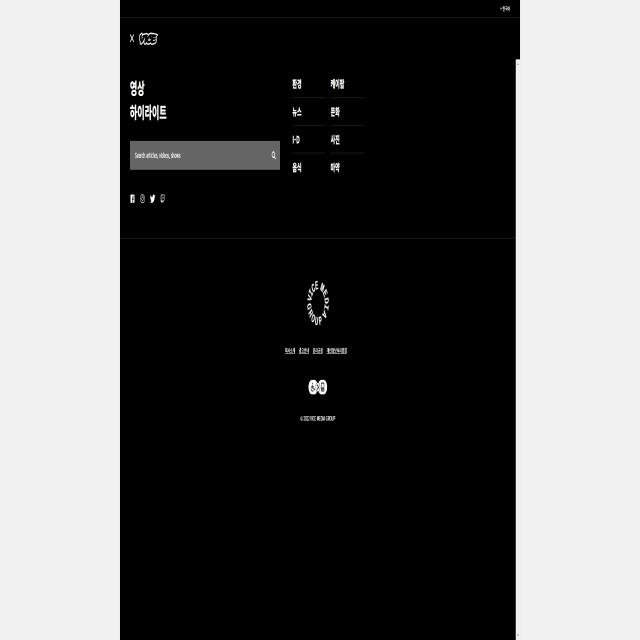search: (128, 139, 282, 172)
